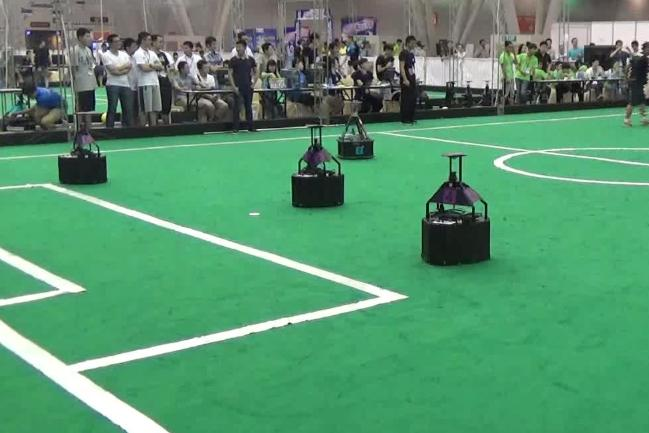robot: (415, 148, 498, 266), (289, 124, 347, 209), (53, 108, 112, 186), (335, 96, 378, 162)
